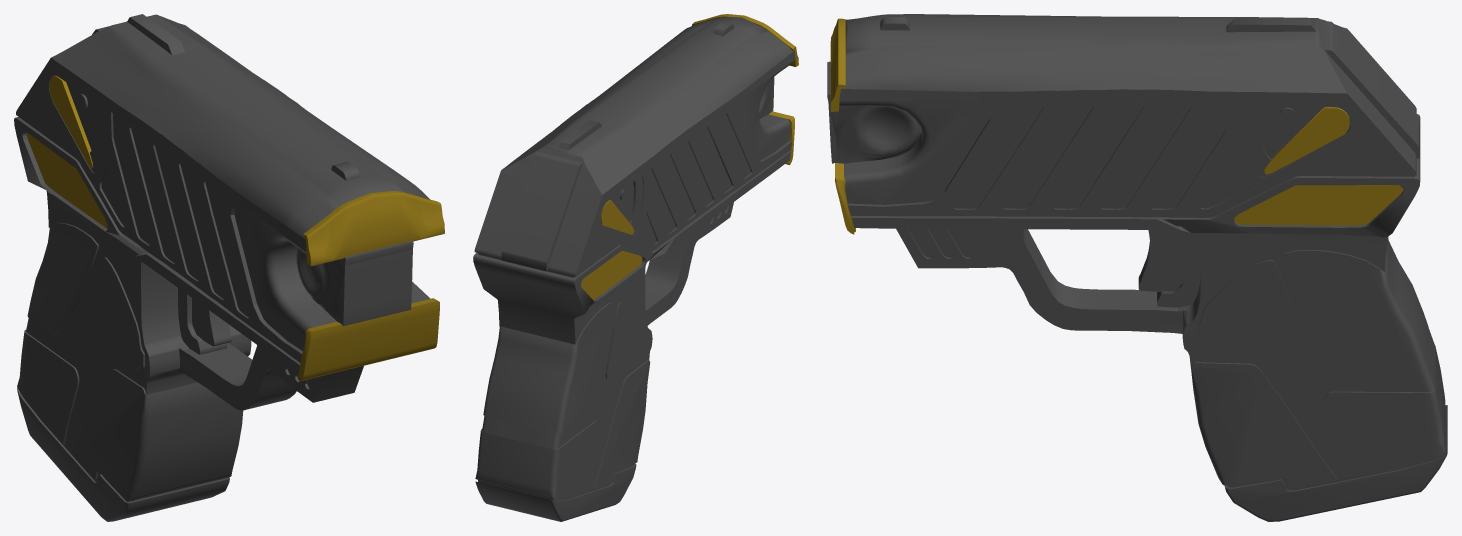
File: taser.fbx
3 views of the same model, side by side, from view 1: azimuth 30°, elevation 25°; view 2: azimuth 150°, elevation 25°; view 3: azimuth 270°, elevation 25° (orthographic). The views are drawn at different scales.
Parts seen in each view (by area): view 1: Plane; view 2: Plane; view 3: Plane.
Boxes of the visible parts, x1,y1,x2,y2 form: Plane: (14,14,444,521); Plane: (473,14,798,521); Plane: (827,14,1447,521).
Bounding box in the file's own units: 16.8 × 57.26 × 67.43.
